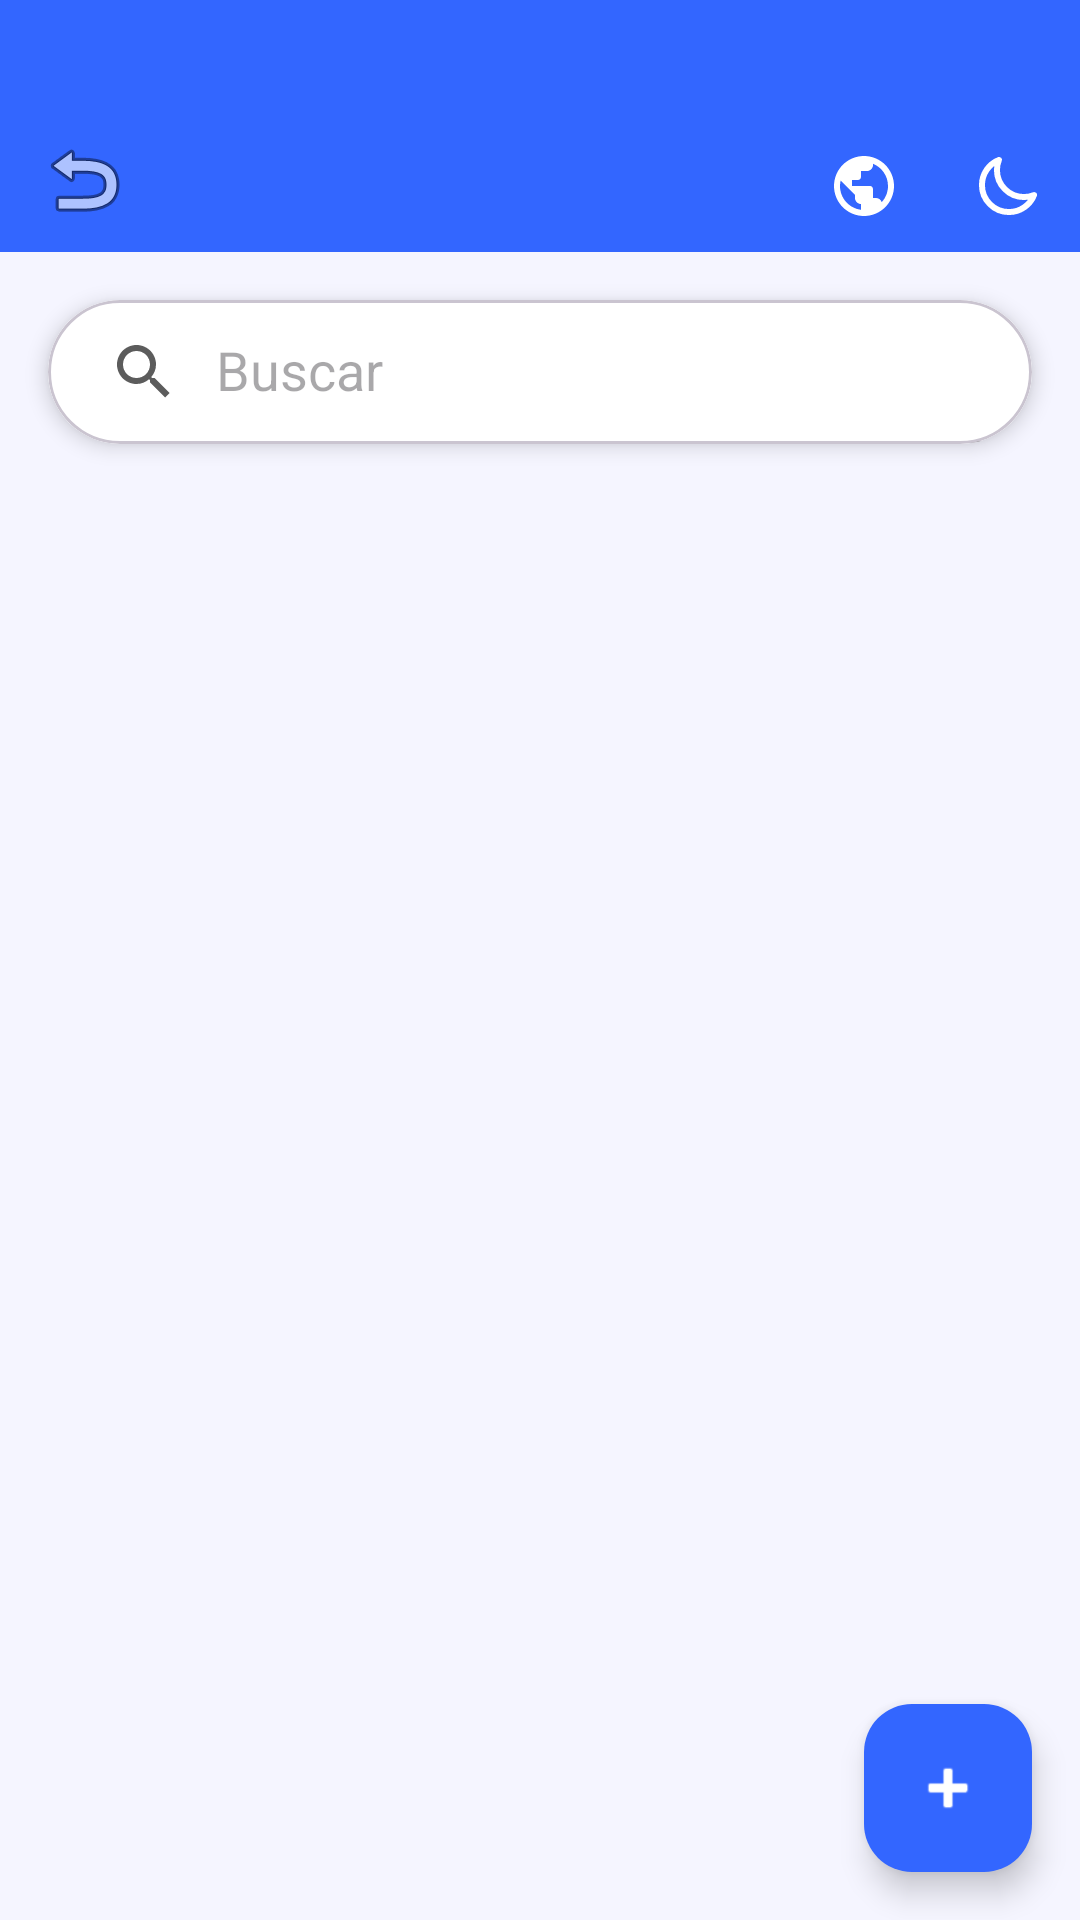

Named icons in this screenshot (1080 x 1920) and their centers, [x,y]:
add: [948,1788]
Cambiar tema: [1008,186]
Seleccionar idioma: [864,186]
